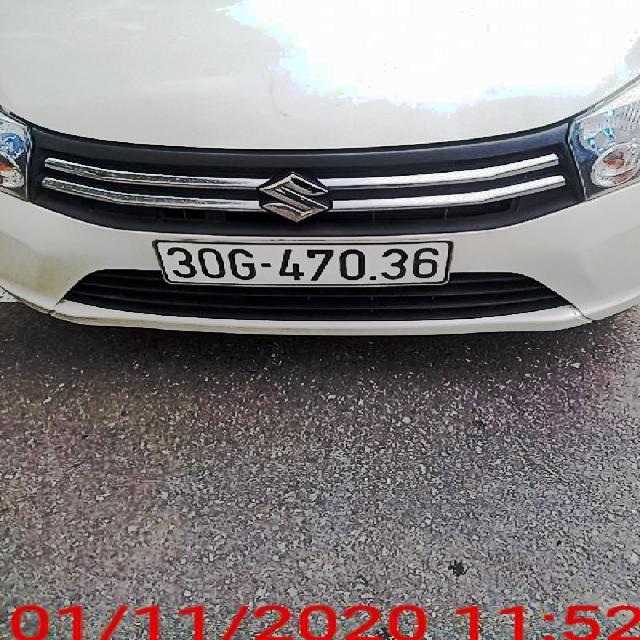license_plate: (157, 241, 452, 287)
